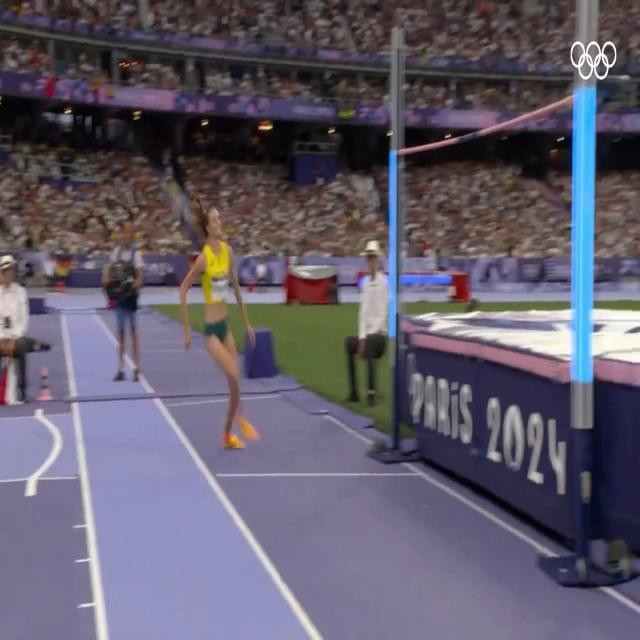run: (183, 200, 257, 445)
